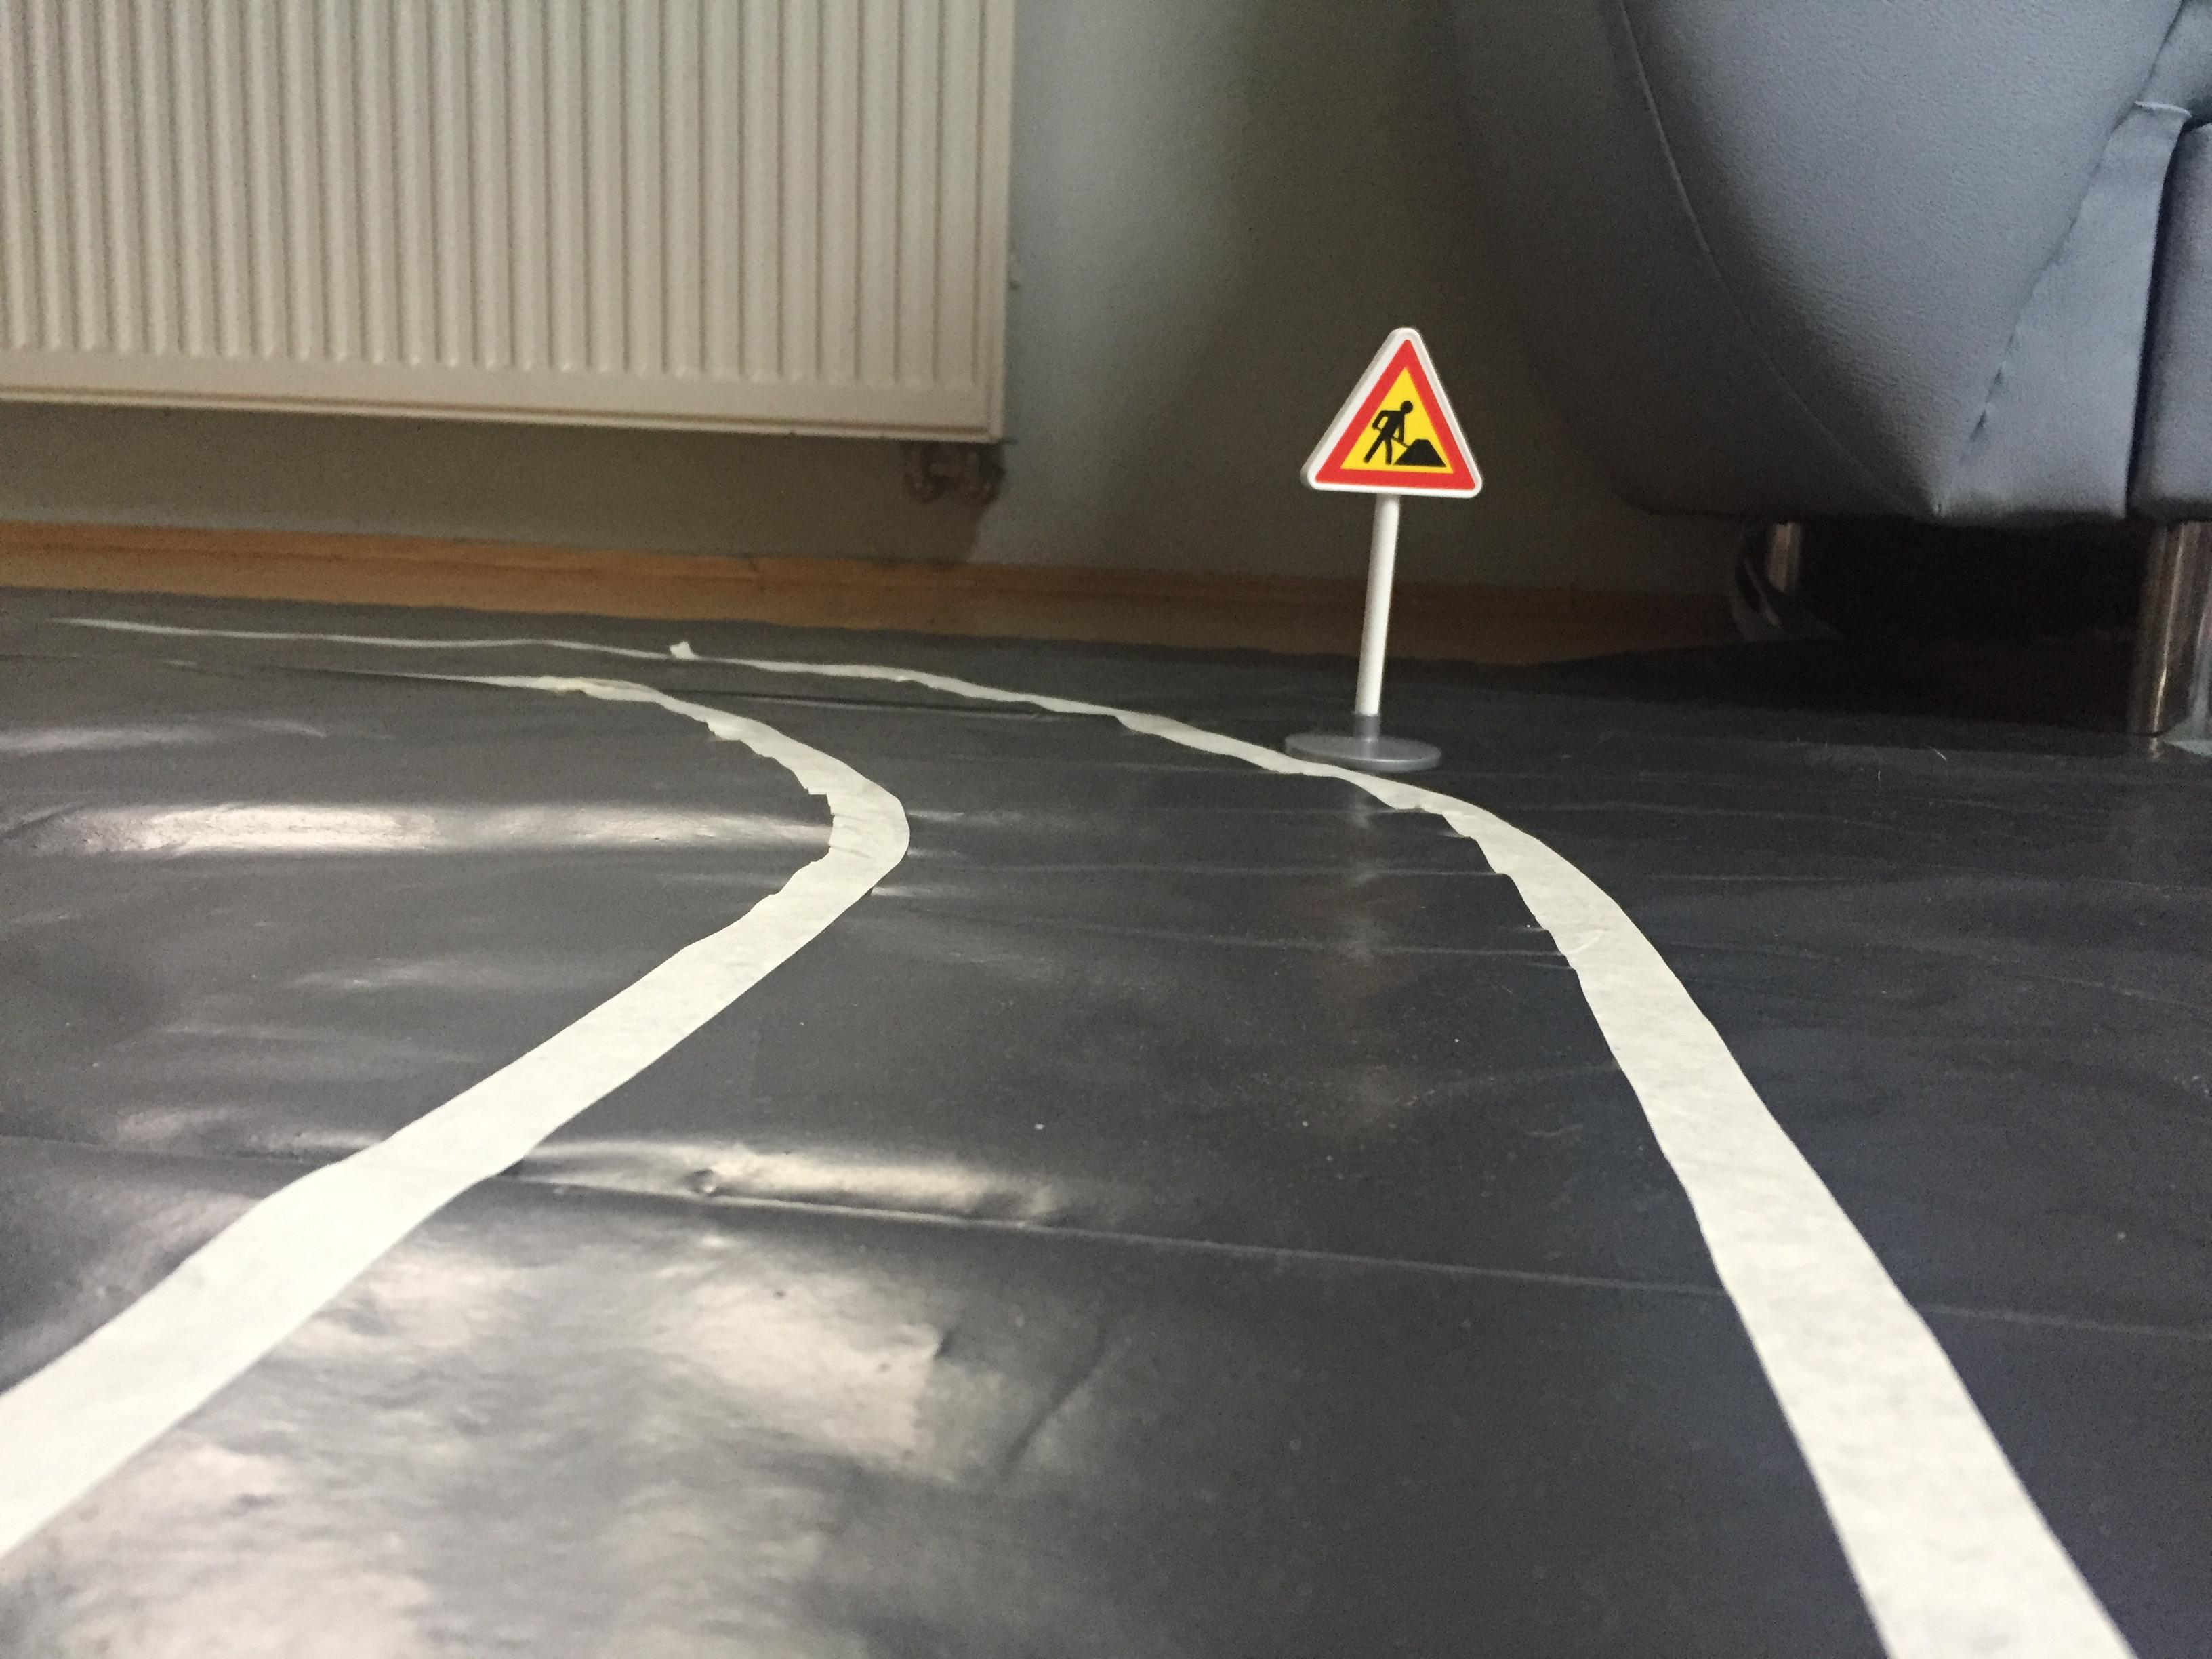work: (1294, 315, 1503, 516)
